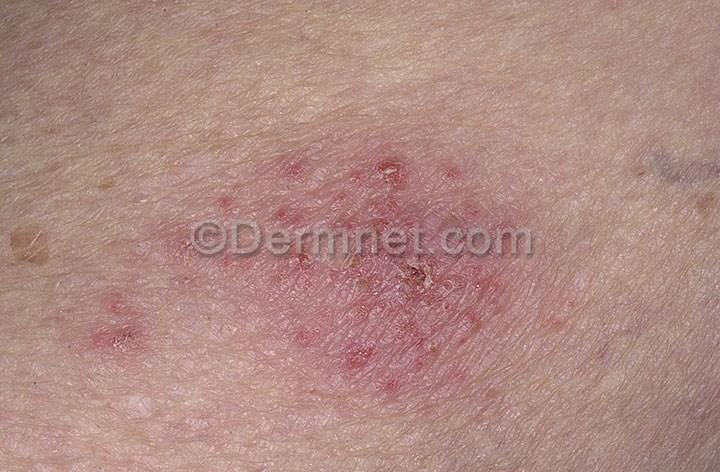Eczema: (185, 83, 580, 396), (74, 276, 168, 391)
